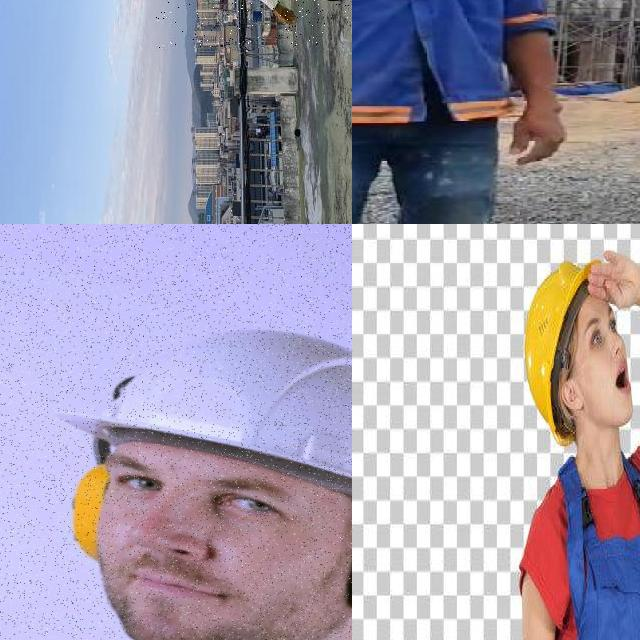Ear-protection: (71, 460, 118, 562)
No_Ear-Protection: (558, 375, 588, 422)
No_Glasses: (193, 459, 299, 552), (100, 453, 182, 516), (582, 302, 621, 358)
face_nomask: (594, 340, 634, 424)
hand_noglove: (504, 96, 584, 170), (588, 252, 640, 308)
head_helmet: (75, 331, 352, 467), (524, 259, 598, 444)
person: (352, 0, 572, 224), (155, 0, 352, 48)
